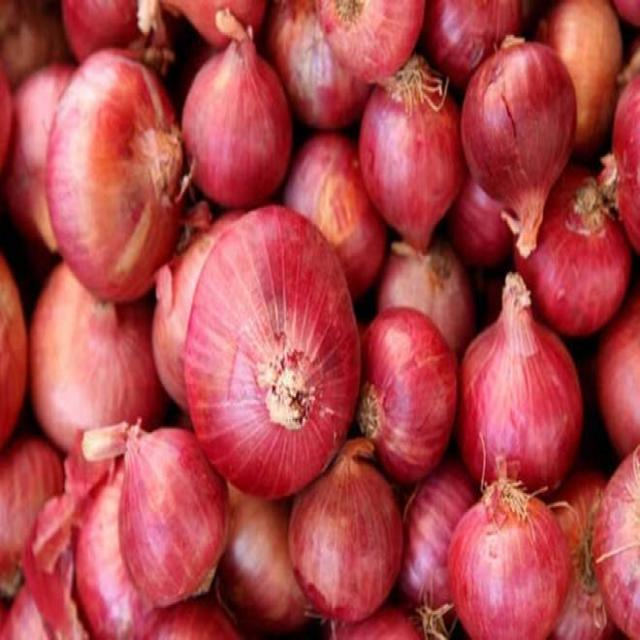onion: (186, 200, 359, 494), (45, 52, 185, 297), (90, 424, 240, 610), (455, 292, 579, 488), (183, 3, 300, 199), (442, 478, 580, 640), (292, 431, 406, 623), (462, 46, 577, 231), (358, 71, 461, 242), (354, 306, 456, 468)
